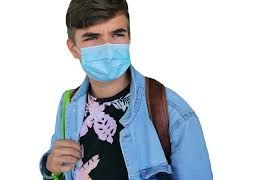with-mask: (63, 4, 133, 83)
